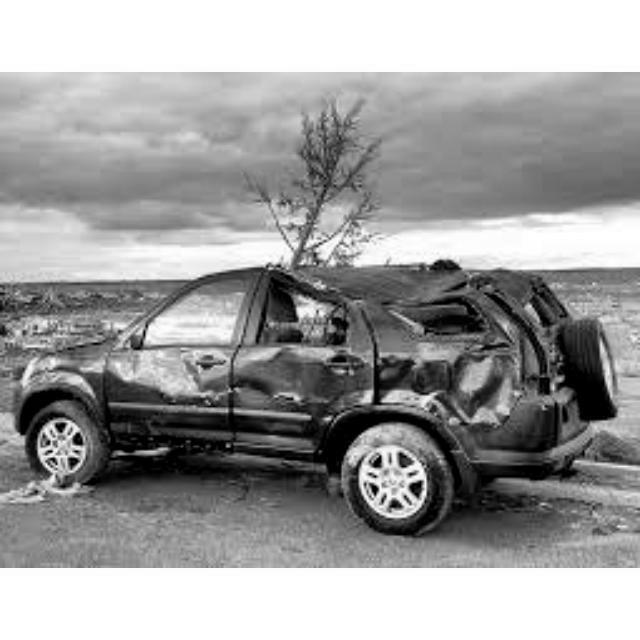Runningboard-Damage: (103, 431, 331, 473)
boot-dent: (516, 285, 579, 395)
doorouter-dent: (237, 291, 352, 456), (106, 357, 231, 434)
fender-dent: (36, 356, 98, 403)
quaterpanel-dent: (377, 333, 512, 423)
roof-dent: (219, 259, 497, 306)
